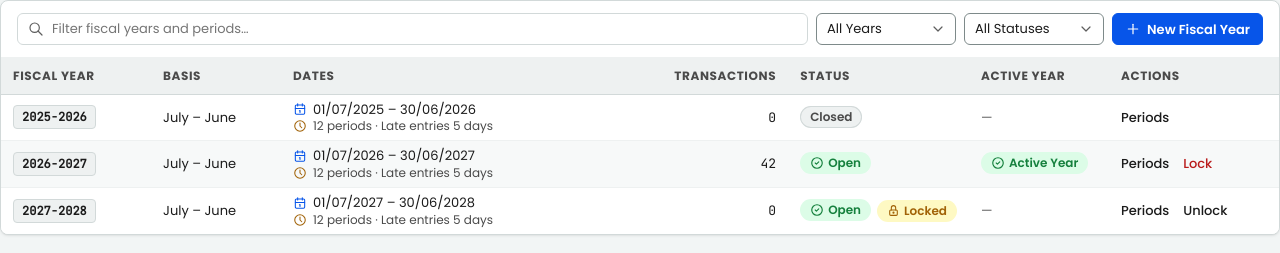
Test: FiscalYearsTable › shows no matches when filters exclude everything
Type "zzz" into the search field labelled "Filter fiscal years" at (425, 29), box [52,19,797,39]
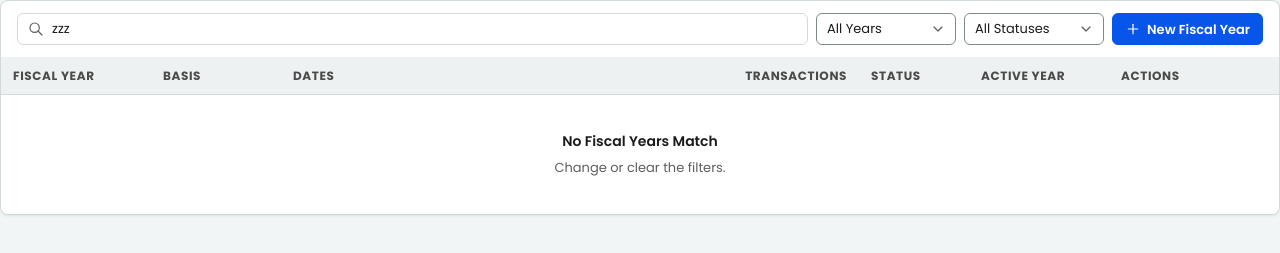
Result: the text "No Fiscal Years Match" is shown at [562,131,718,152]
